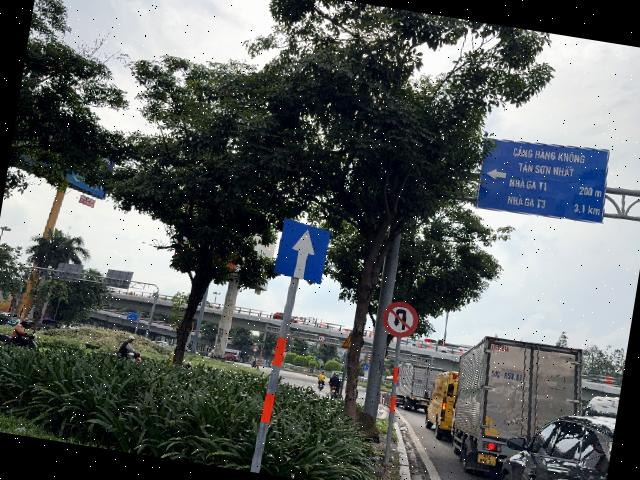cam-quay-dau-xe: (380, 300, 420, 340)
duong-mot-chieu: (272, 217, 332, 285)
